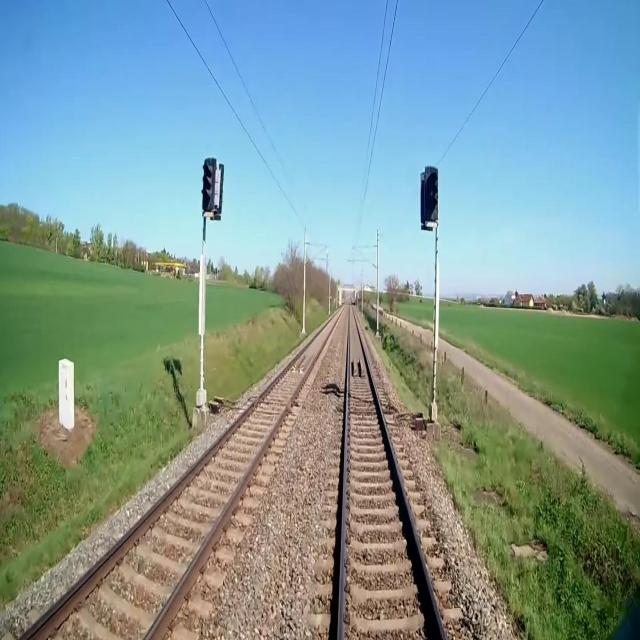rail-track: (27, 311, 340, 639), (345, 306, 442, 639)
